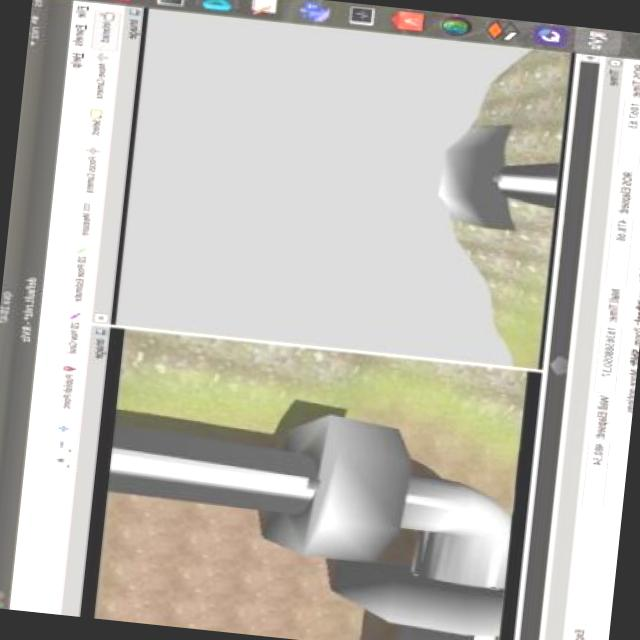gas: (109, 424, 523, 548), (398, 479, 522, 640), (494, 157, 560, 207)
